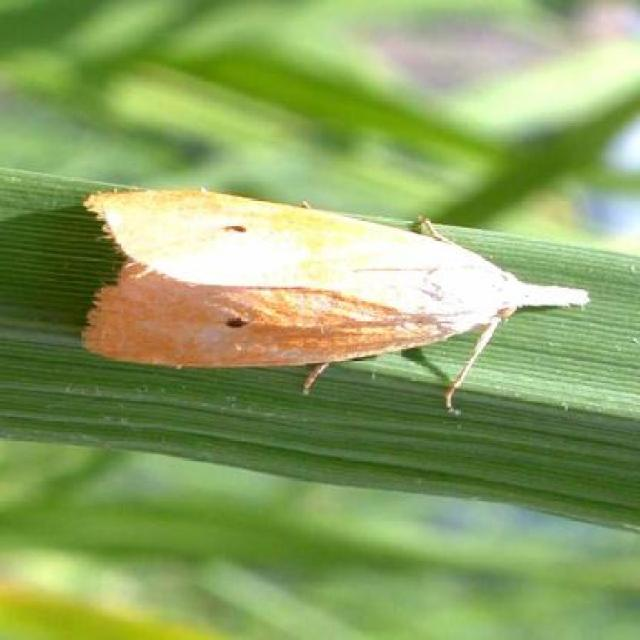stem-borer: (83, 185, 594, 390)
